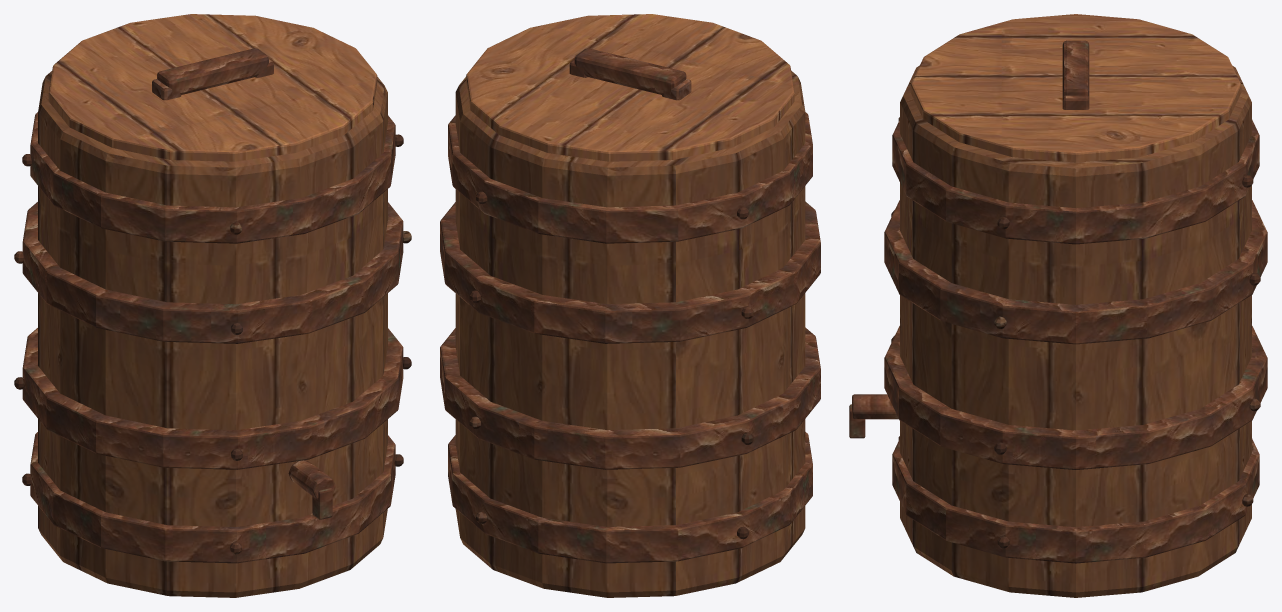
File: barrel__plank_root.glb
3 views of the same model, side by side, from view 1: azimuth 30°, elevation 25°; view 2: azimuth 150°, elevation 25°; view 3: azimuth 270°, elevation 25° (orthographic).
Parts seen in each view (by area): view 1: model; view 2: model; view 3: model.
Boxes of the visible parts, x1=… form: model: x1=14, y1=14, x2=411, y2=597; model: x1=440, y1=14, x2=820, y2=597; model: x1=849, y1=14, x2=1267, y2=597.
Size of the model in its own units: 0.7186 by 0.96 by 0.7843.
4 materials, 4 textured.
